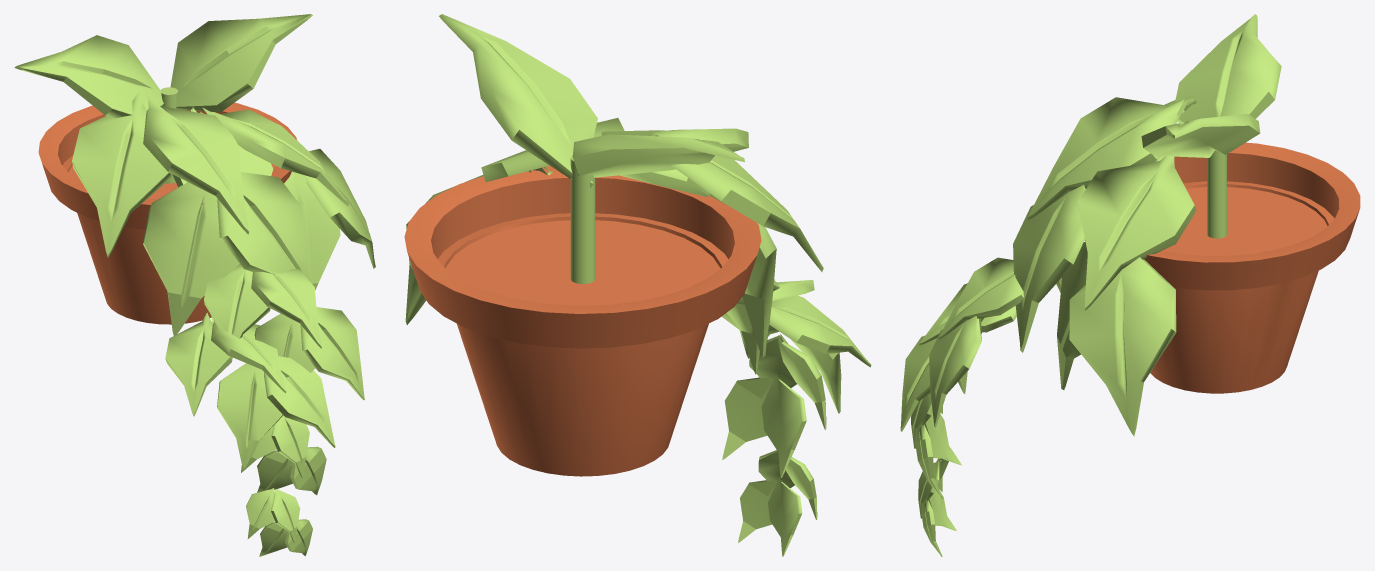
File: GRASS2.fbx
3 views of the same model, side by side, from view 1: azimuth 30°, elevation 25°; view 2: azimuth 150°, elevation 25°; view 3: azimuth 270°, elevation 25° (orthographic). The views are drawn at different scales.
Visible parts, largest first — view 1: Cylinder.004, Circle.001; view 2: Circle.001, Cylinder.004; view 3: Cylinder.004, Circle.001.
Boxes of the visible parts, box(x1,y1,x2,y2) form: Cylinder.004: box(14, 14, 375, 556); Circle.001: box(38, 102, 296, 324); Circle.001: box(404, 165, 761, 476); Cylinder.004: box(405, 14, 871, 556); Cylinder.004: box(900, 14, 1281, 556); Circle.001: box(1084, 142, 1360, 393).
Bounding box in the file's own units: 51.34 × 70.36 × 60.91.
